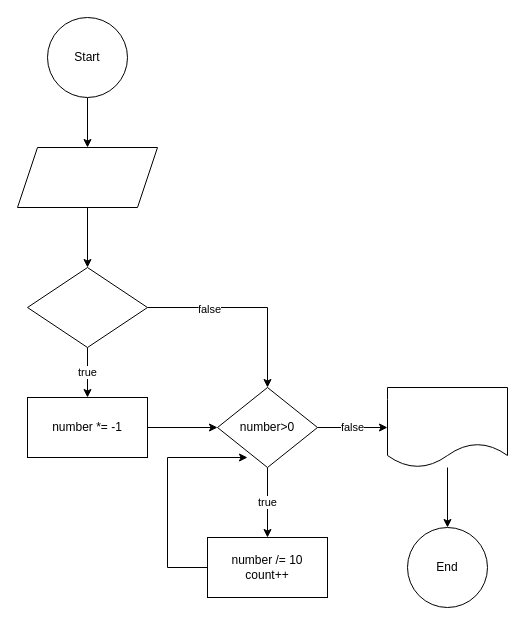
The diagram is 525 pixels wide and 625 high, and some of its shapes have lost their labels. The centre of each missing label's shape, as x and y in pixels:
count: [447,427]
int number; int count = 0: [87,177]
number < 0: [87,307]
